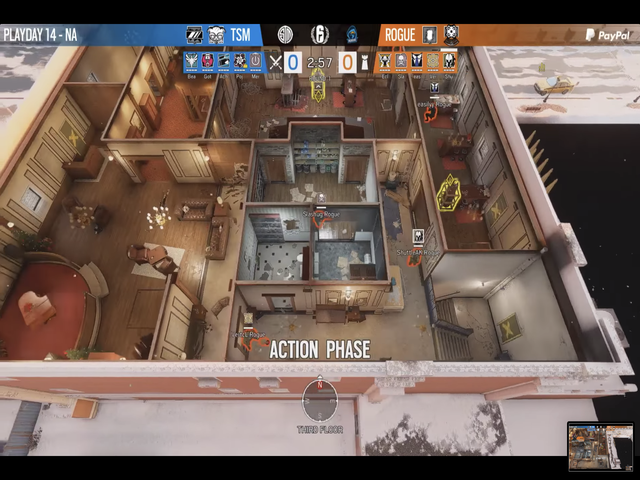0_blue: (282, 50, 304, 75)
